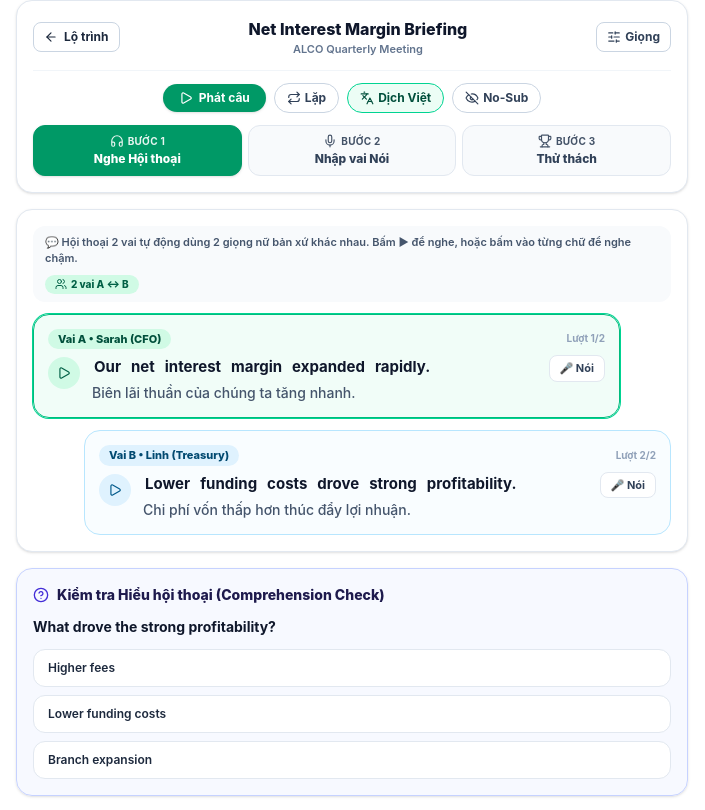
Test: LessonPlayer › scores Dictation (Chính tả) and shows word-level badges inside Step 3
The width and height of the screenshot is (705, 810).
Step 1. Click the button "Bước 3 Thử thách" → (567, 150), box [462,124,671,176]
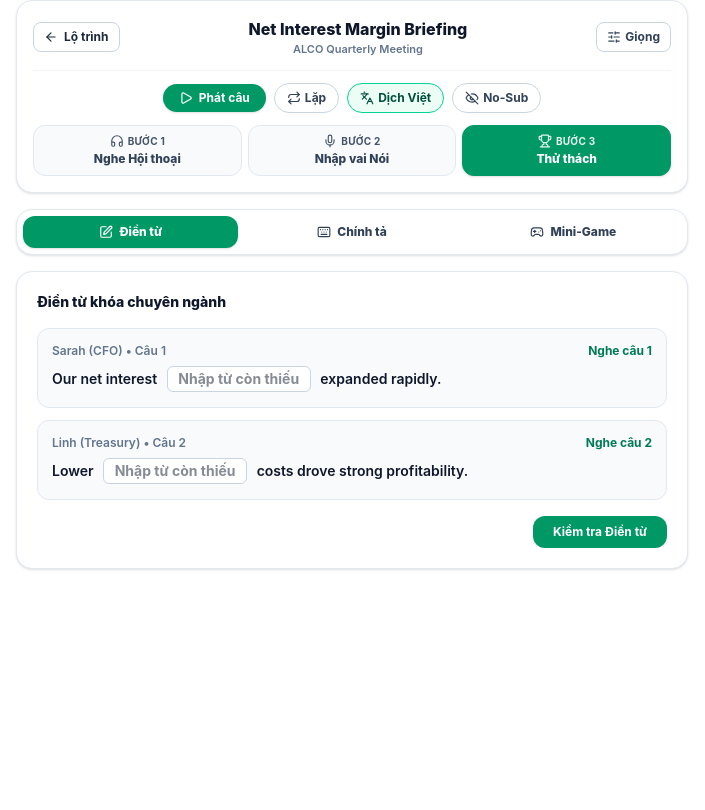
Step 2. Click the button "Chính tả" → (352, 232), box [244,216,460,248]
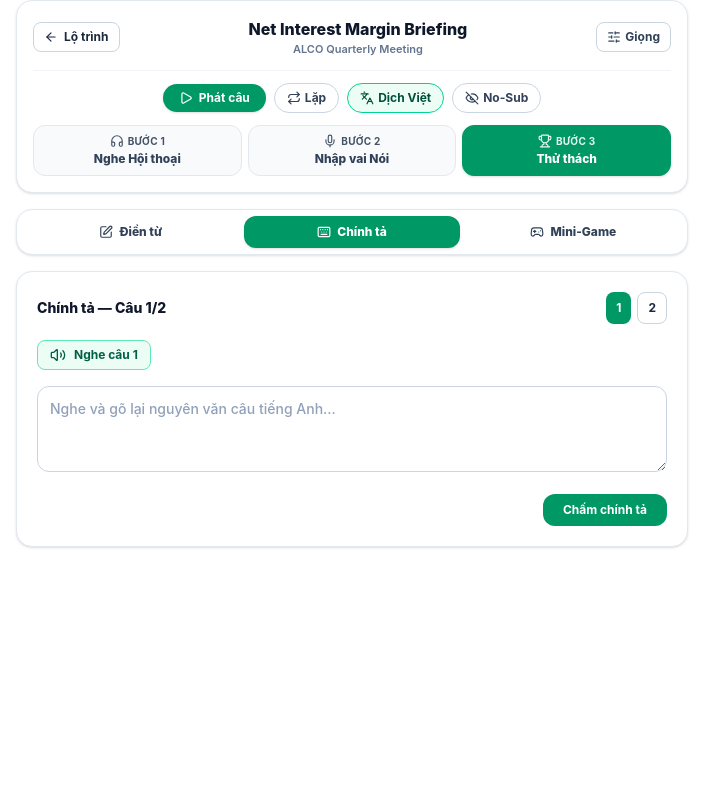
Expected: the button "2" is shown, [637,292,667,324]
Step 3. Type "Our net interest expanded rapidly." into the text box with placeholder "Nghe và gõ lại nguyên văn câu tiếng Anh..." → (352, 428), box [37,386,667,472]
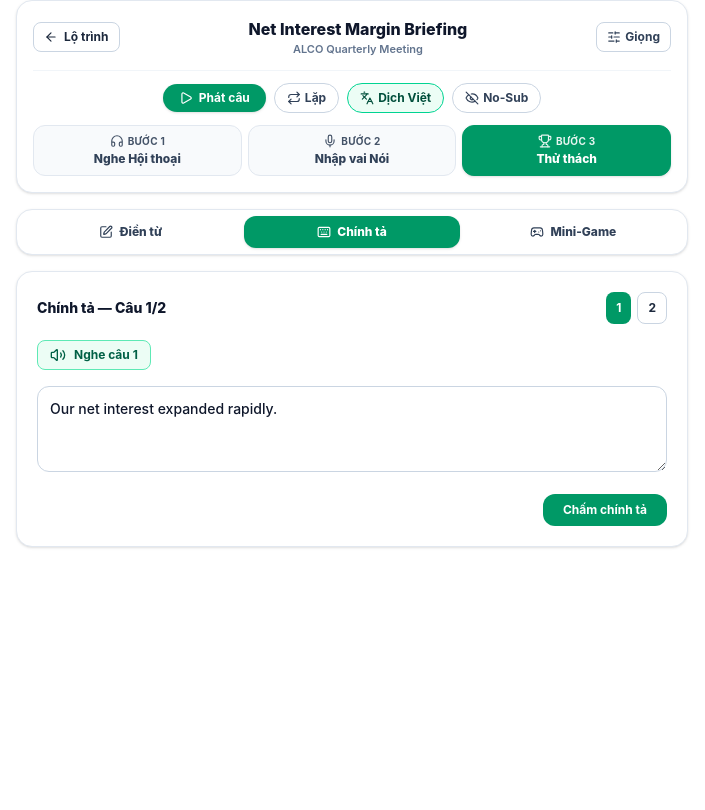
Step 4. Click the button "Chấm chính tả" → (605, 510), box [543,494,667,526]
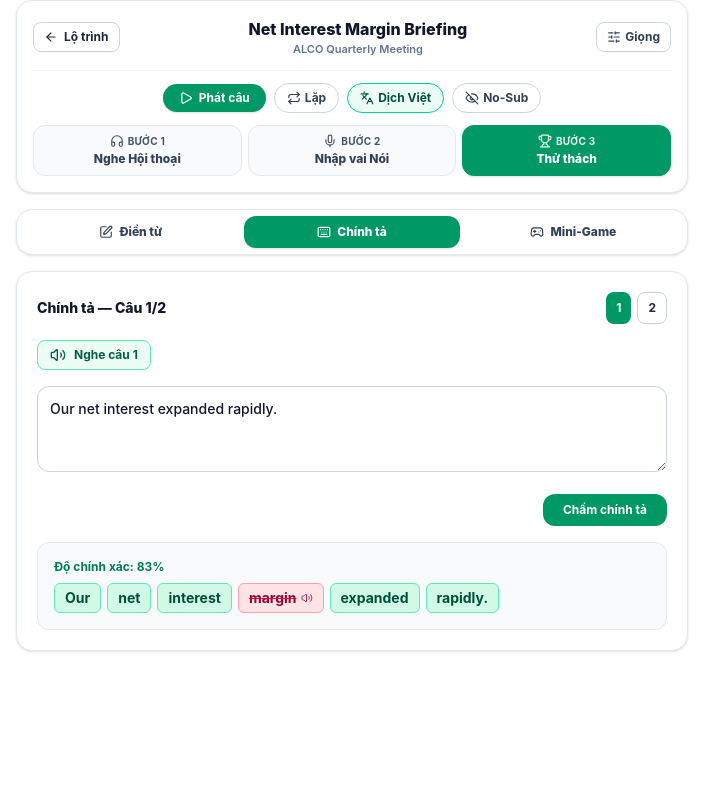
Expected: the text "Độ chính xác: 83%" is shown, [54,558,164,574]
